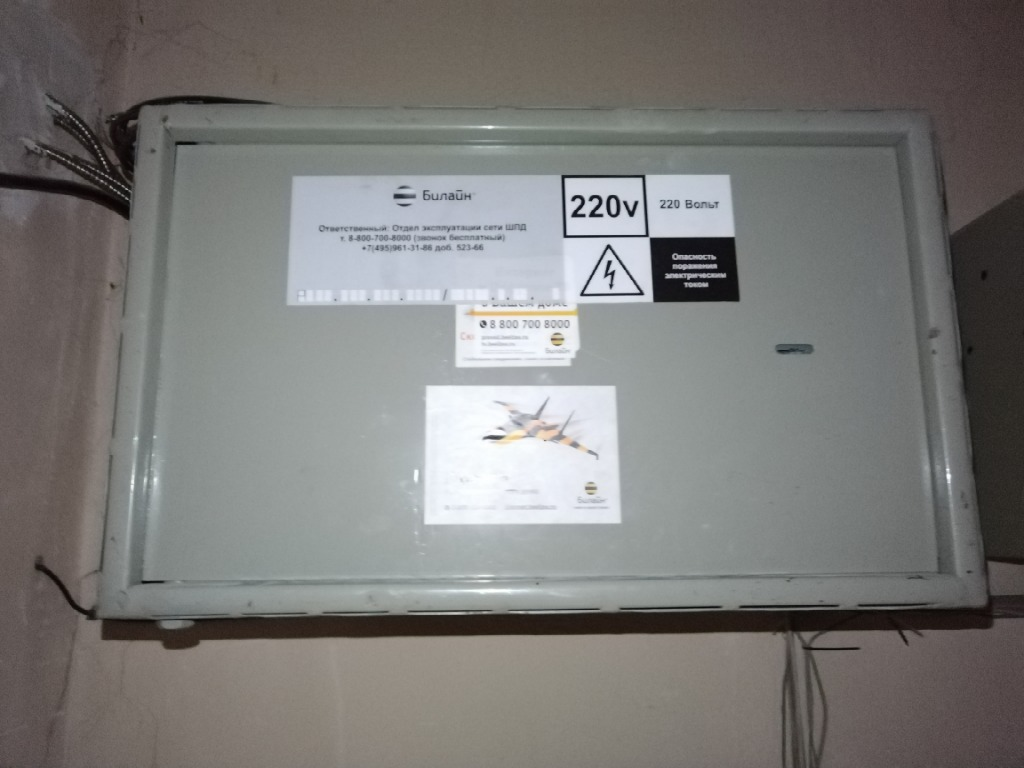e2-6u: (89, 99, 994, 622)
